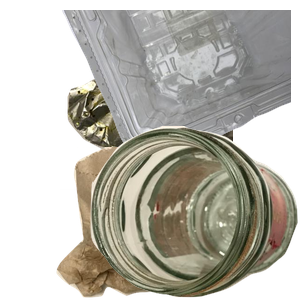glass: (90, 126, 300, 300)
metal: (60, 10, 300, 190)
plastic: (60, 10, 300, 162)
trash: (54, 147, 271, 300)
